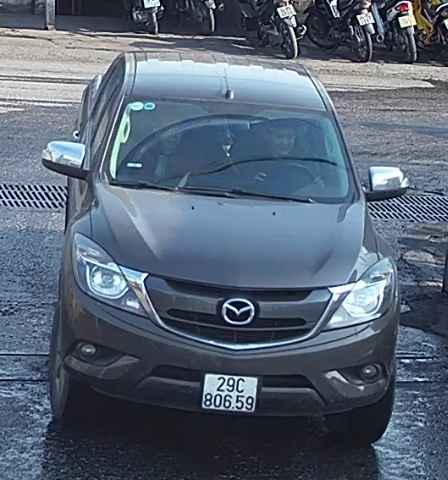vehicle plate: (196, 367, 265, 415)
